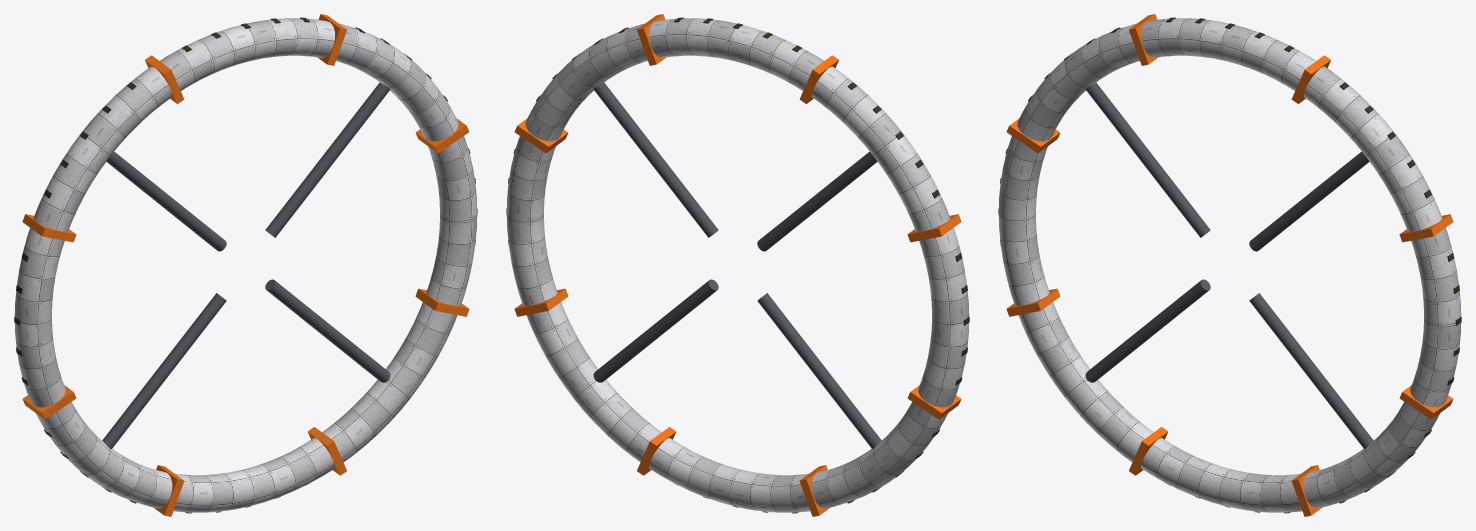
Rendered from station_ring.obj.
The picture shows the model from 3 angles, left to right: view 1: azimuth 30°, elevation 25°; view 2: azimuth 150°, elevation 25°; view 3: azimuth 330°, elevation 25°; orthographic projection.
Parts seen in each view (by area): view 1: station_ring; view 2: station_ring; view 3: station_ring.
Boxes of the visible parts, <box> form: station_ring: <box>14,14,477,516</box>; station_ring: <box>506,14,969,516</box>; station_ring: <box>998,14,1461,516</box>.
Size of the model in its own units: 73.25 by 73.25 by 5.46.
4 materials, 1 textured.
